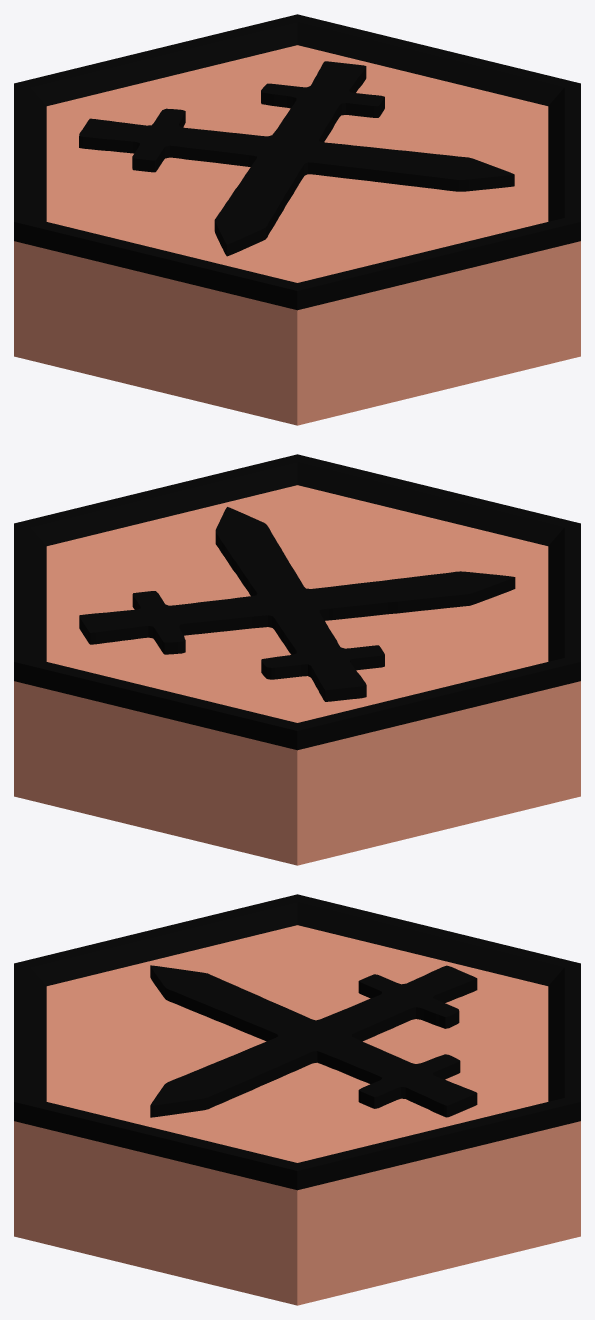
Rendered from combatroom.glb.
The picture shows the model from 3 angles, top to bottom: view 1: azimuth 30°, elevation 25°; view 2: azimuth 150°, elevation 25°; view 3: azimuth 270°, elevation 25°; orthographic projection.
Visible parts, largest first — view 1: Cylinder.003, Plane.001; view 2: Cylinder.003, Plane.001; view 3: Cylinder.003, Plane.001.
Boxes of the visible parts, <box> form: Cylinder.003: <box>14,14,580,425</box>; Plane.001: <box>79,61,514,256</box>; Cylinder.003: <box>14,454,580,865</box>; Plane.001: <box>79,507,515,701</box>; Cylinder.003: <box>14,894,580,1305</box>; Plane.001: <box>150,965,477,1117</box>.
Size of the model in its own units: 2 by 0.4538 by 1.73.
